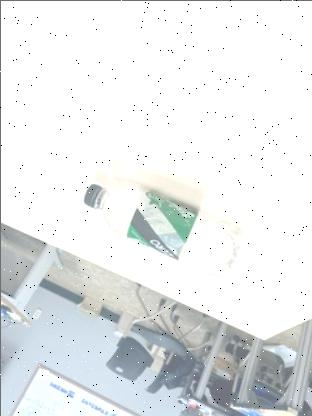Plastic Bottle: (80, 171, 246, 285)
